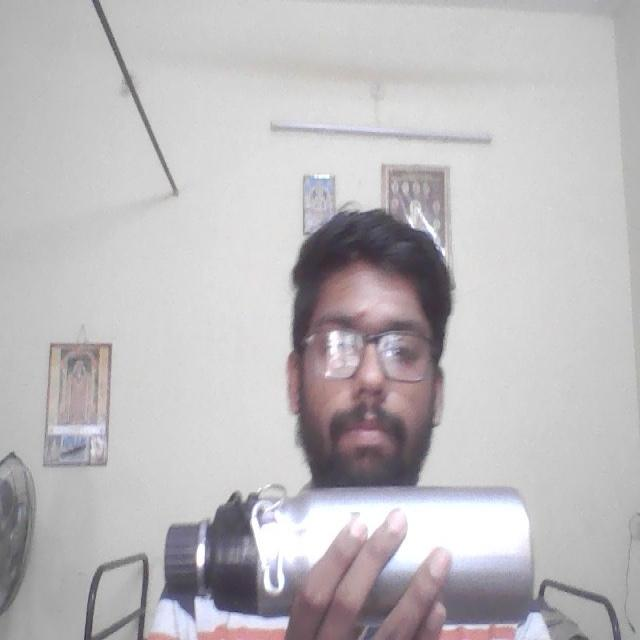Drinking: (163, 478, 543, 633)
